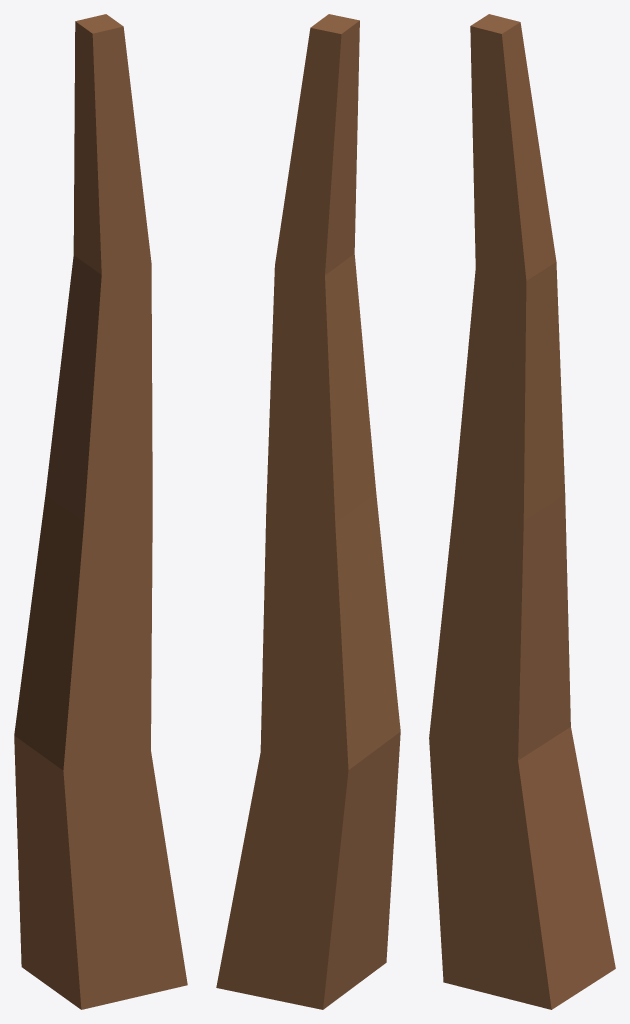
Rendered from tree-autumn-trunk-015.glb.
3 views of the same model, side by side, from view 1: azimuth 30°, elevation 25°; view 2: azimuth 150°, elevation 25°; view 3: azimuth 330°, elevation 25° (orthographic). The views are drawn at different scales.
Parts seen in each view (by area): view 1: Plane.036_367; view 2: Plane.036_367; view 3: Plane.036_367.
Boxes of the visible parts, x1,y1,x2,y2 form: Plane.036_367: (14, 14, 187, 1009); Plane.036_367: (216, 14, 400, 1009); Plane.036_367: (429, 14, 615, 1009).
Size of the model in its own units: 0.1581 by 1.16 by 0.1381.
